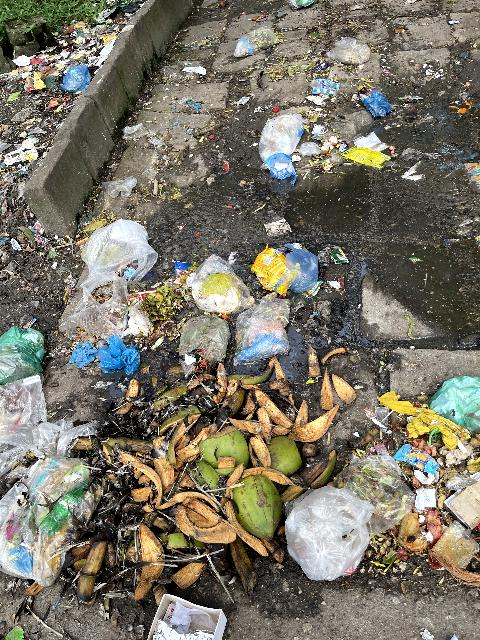polythene: (8, 382, 71, 594), (290, 484, 369, 597), (71, 220, 130, 335), (226, 301, 288, 366), (259, 108, 299, 183), (444, 370, 476, 423)
